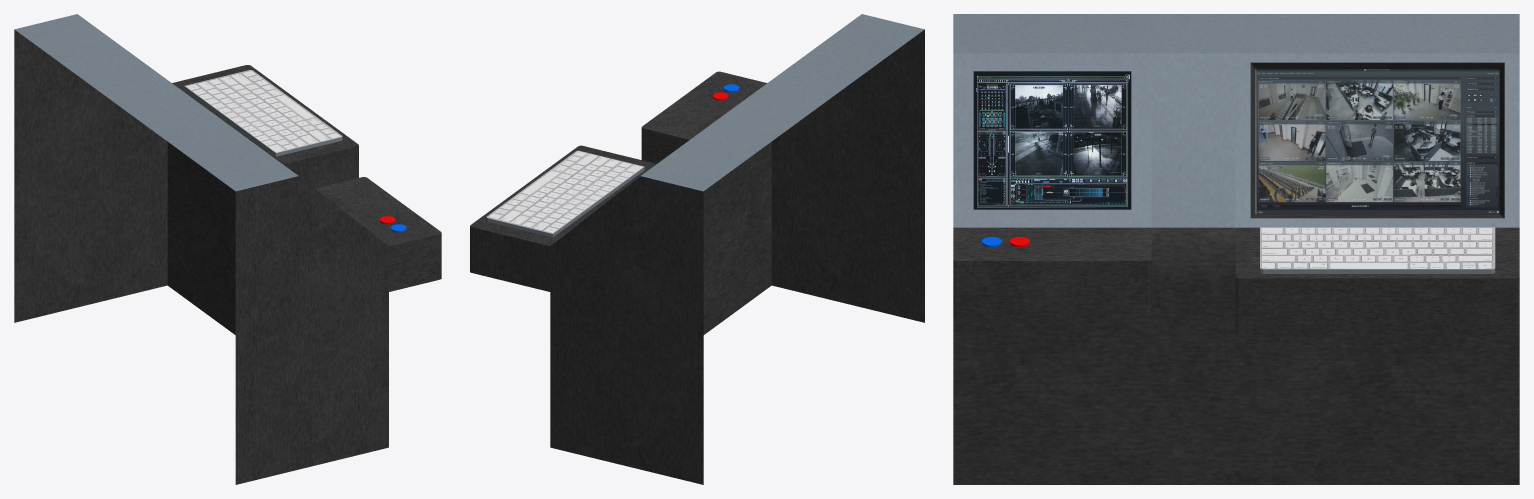
File: Console_v1_1.fbx
3 renders of one model, left to right at view 1: azimuth 30°, elevation 25°; view 2: azimuth 150°, elevation 25°; view 3: azimuth 270°, elevation 25°, orthographic. The views are drawn at different scales.
Parts seen in each view (by area): view 1: Console_v1_1; view 2: Console_v1_1; view 3: Console_v1_1.
Boxes of the visible parts, x1,y1,x2,y2 form: Console_v1_1: (14,14,441,484); Console_v1_1: (470,14,924,484); Console_v1_1: (953,14,1519,484).
Bounding box in the file's own units: 102 × 122 × 166.
Materials: 1 (1 with a texture image).
